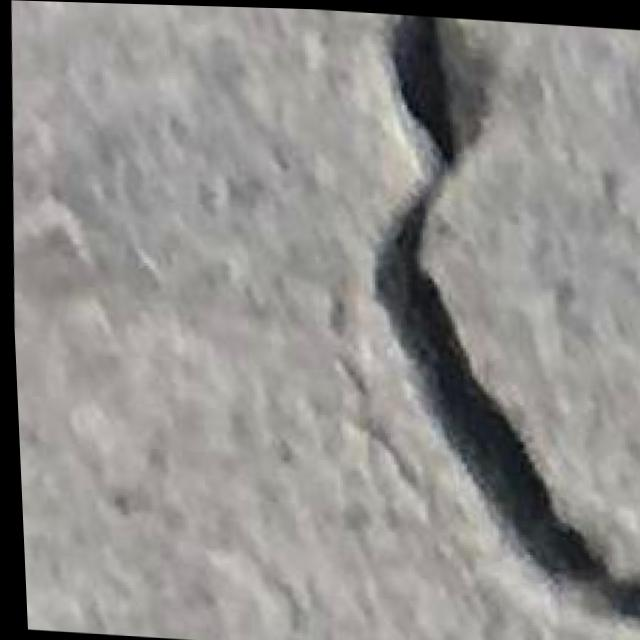Crack: (336, 12, 640, 640)
